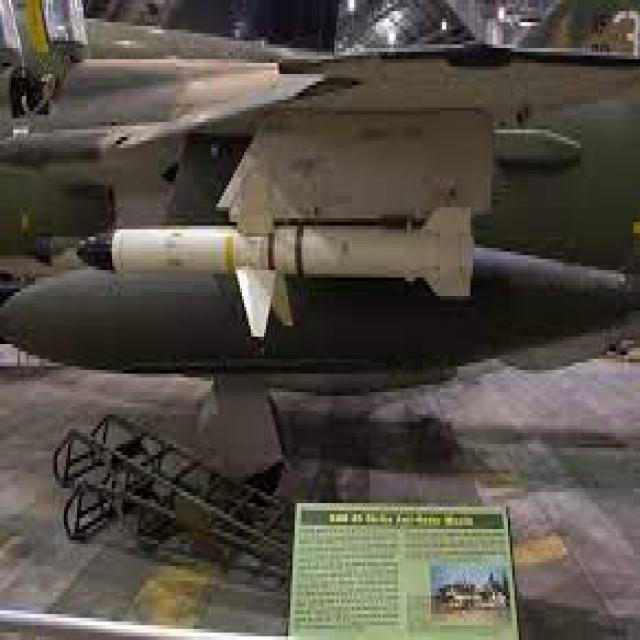missile: (60, 177, 519, 339)
